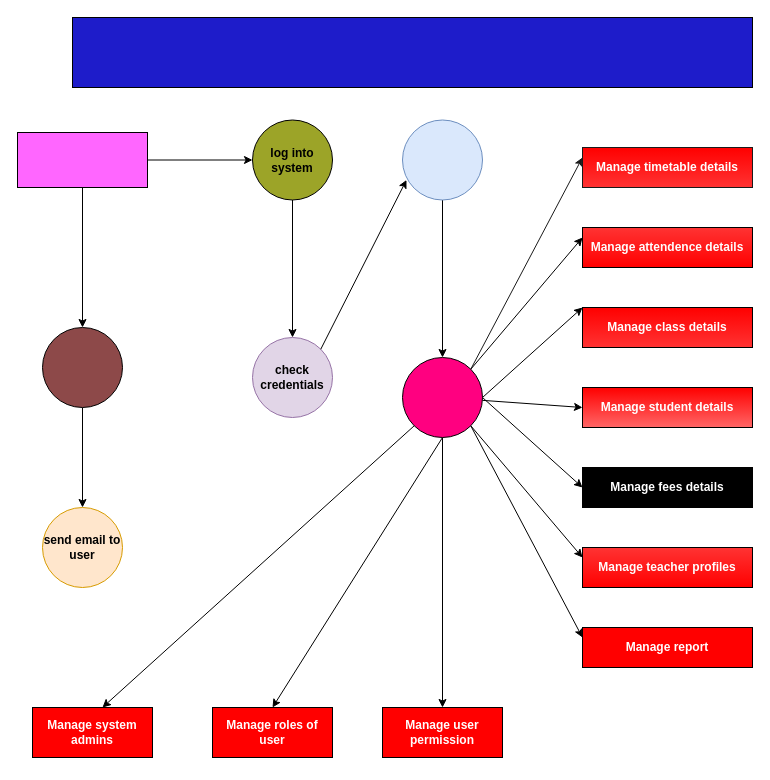
This 770x780 diagram has some shape labels left out. Here are the shapes that lost their labels. From the top down, the box of each, then its label:
(72, 16, 752, 88): student information system
(16, 132, 148, 188): admission
(402, 119, 482, 200): check roles of access
(42, 326, 122, 408): forget password
(402, 356, 482, 438): manage modules
